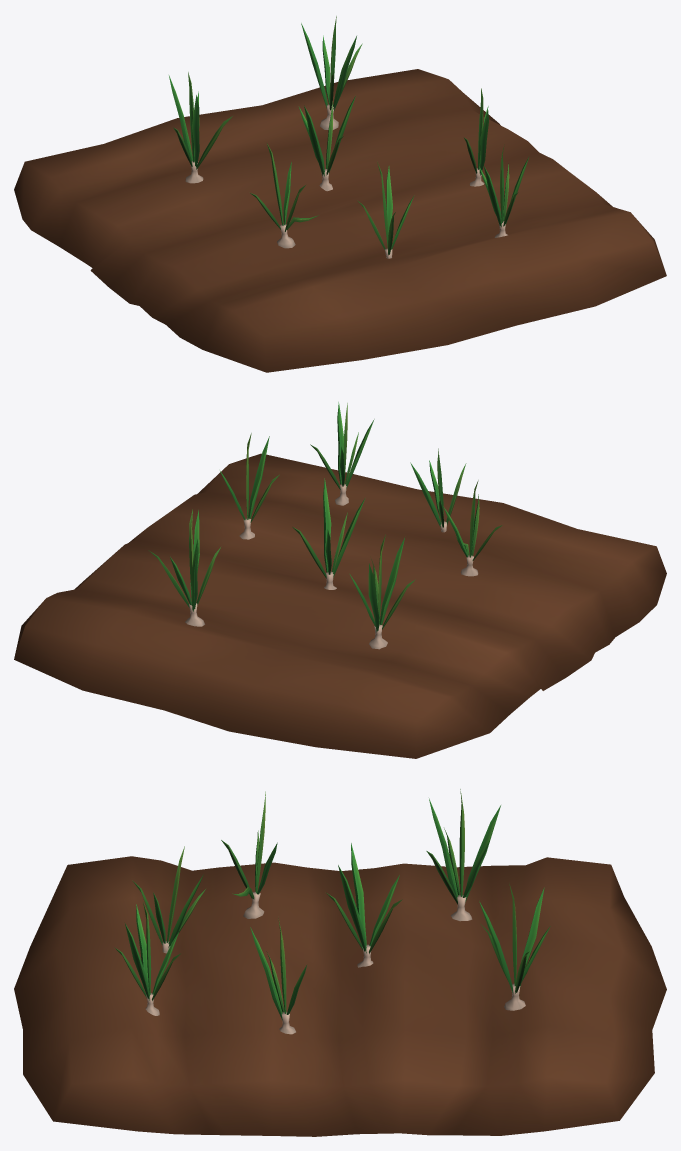
Rendered from SM_PlantSoil_Onion_Lv2.fbx.
The picture shows the model from 3 angles, top to bottom: view 1: azimuth 30°, elevation 25°; view 2: azimuth 150°, elevation 25°; view 3: azimuth 270°, elevation 25°; orthographic projection. The views are drawn at different scales.
Parts seen in each view (by area): view 1: SM_PlantSoil_Onion_Lv2; view 2: SM_PlantSoil_Onion_Lv2; view 3: SM_PlantSoil_Onion_Lv2.
Part boxes in pixels (bbox=[...]): SM_PlantSoil_Onion_Lv2: bbox=[14, 16, 666, 372]; SM_PlantSoil_Onion_Lv2: bbox=[14, 402, 666, 758]; SM_PlantSoil_Onion_Lv2: bbox=[14, 789, 666, 1136].
Bounding box in the file's own units: 96.14 × 29.45 × 103.
